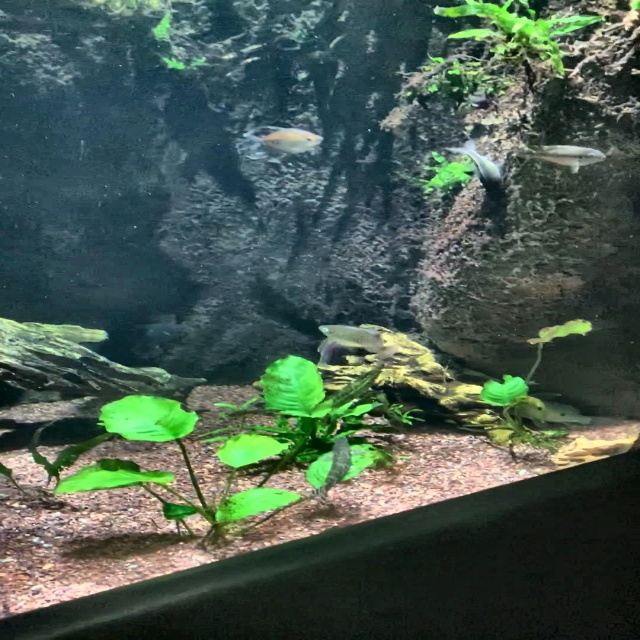fish: (446, 140, 511, 195), (241, 125, 323, 162), (516, 144, 607, 172), (320, 326, 395, 357)
